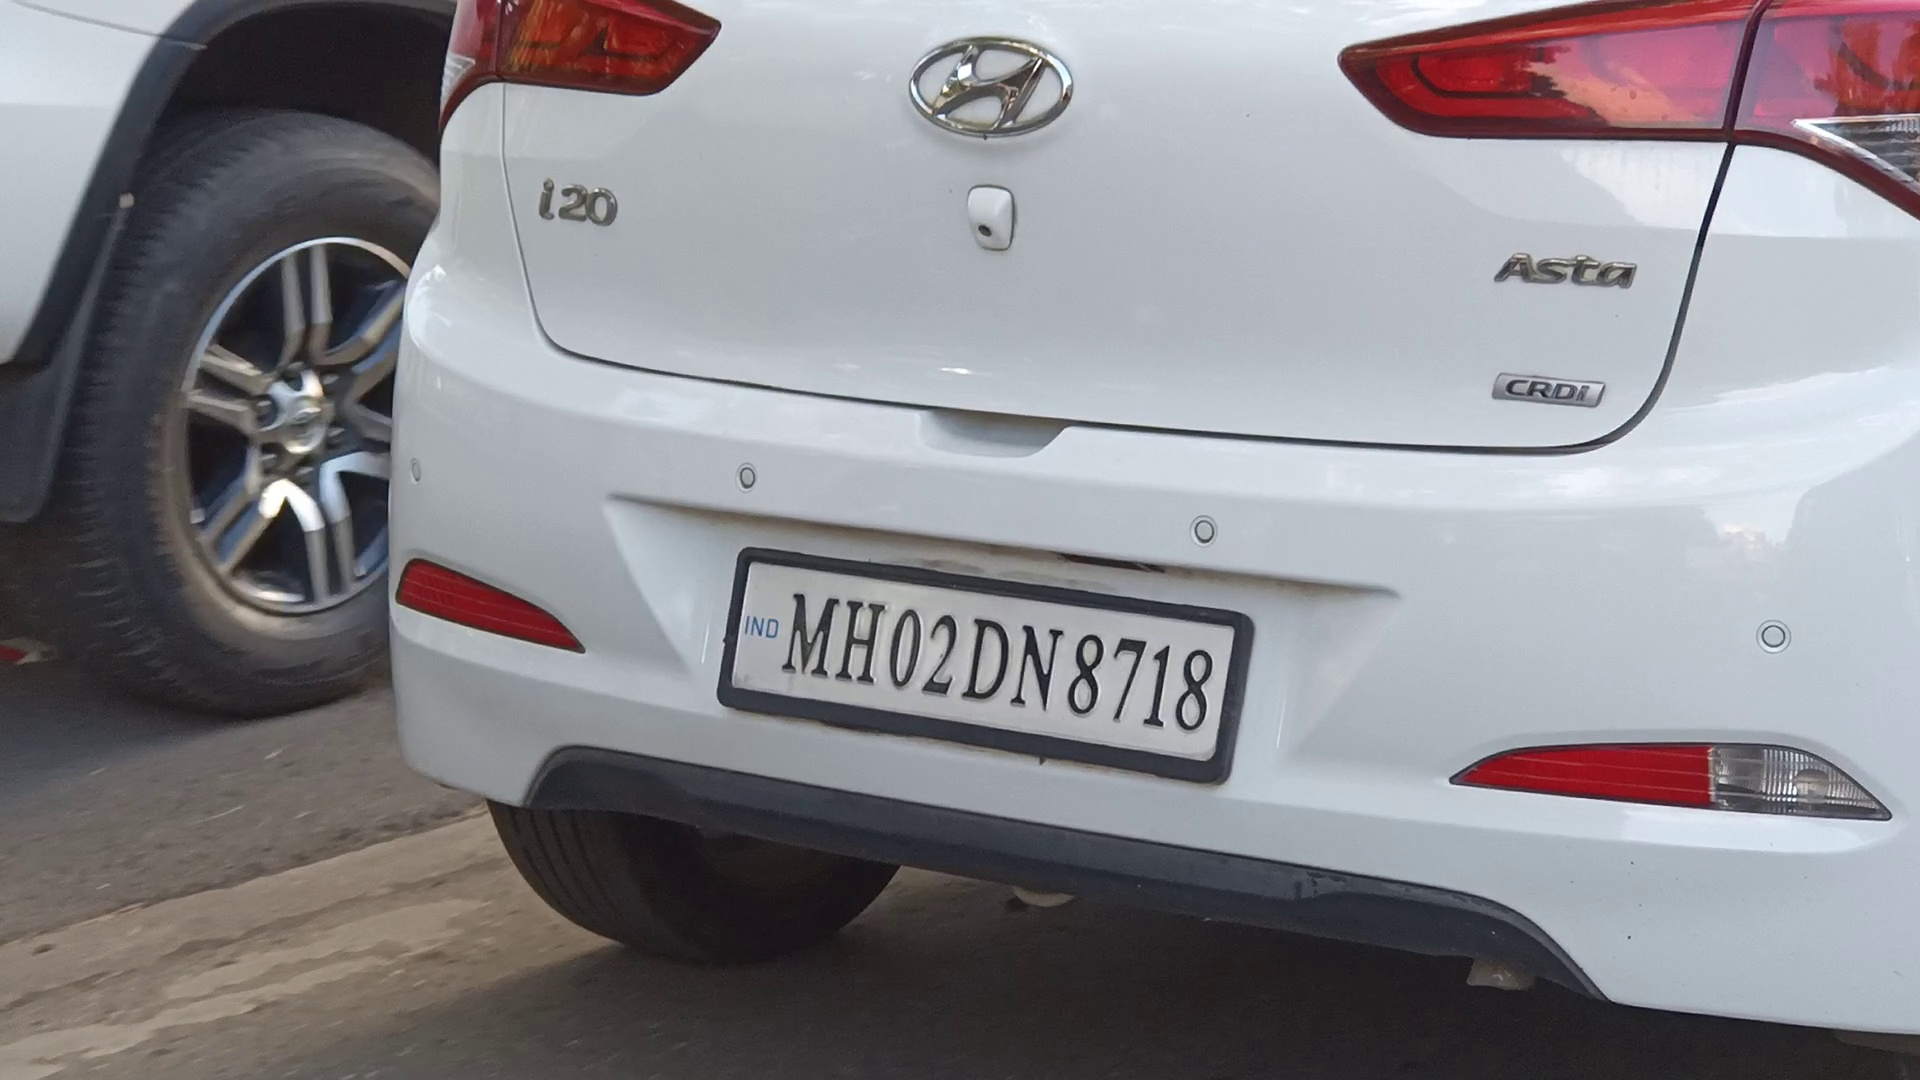MH02DN8718: (728, 559, 1234, 761)
